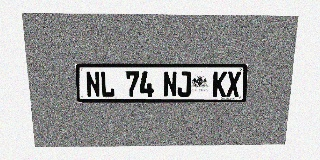4: (140, 71, 153, 97)
7: (125, 71, 139, 97)
J: (177, 71, 191, 97)
K: (212, 71, 227, 97)
L: (100, 71, 115, 97)
N: (85, 71, 101, 97), (163, 71, 177, 97)
X: (226, 71, 241, 97)
